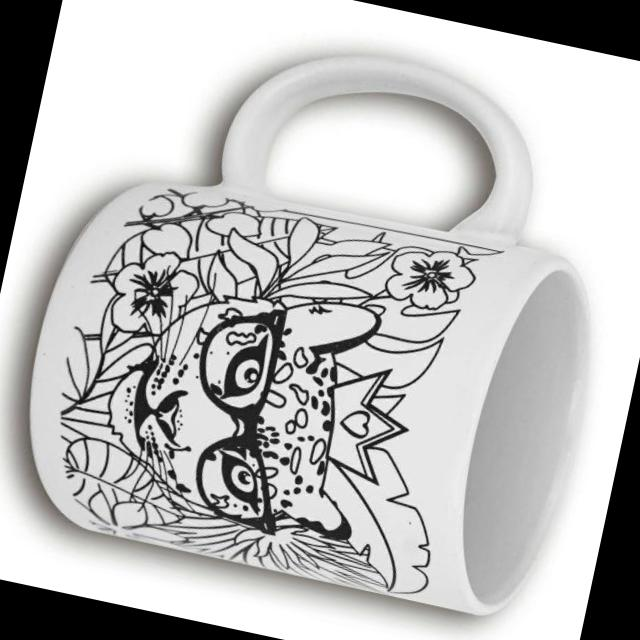Coffee Mug: (2, 0, 640, 629)
